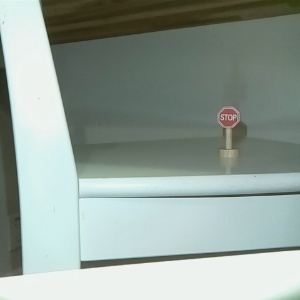stop sign: (214, 105, 241, 160)
